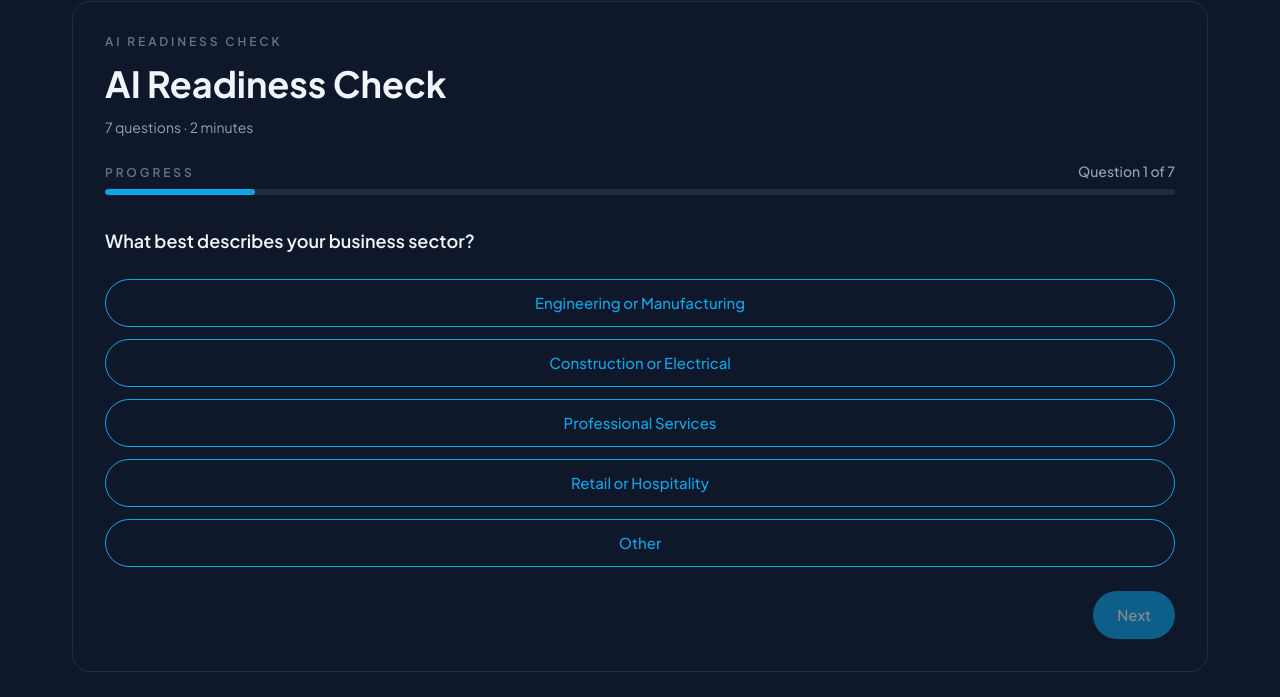
Scenario: ReadinessCheck flow UI contract › keeps the current question stable when an answer save conflict is returned
The image size is (1280, 697).
Expected: the text "What best describes your business sector?" is shown, [105,229,475,252]
Click the button "Construction or Electrical" at (640, 363), box [105,339,1175,387]
(page scrolled)
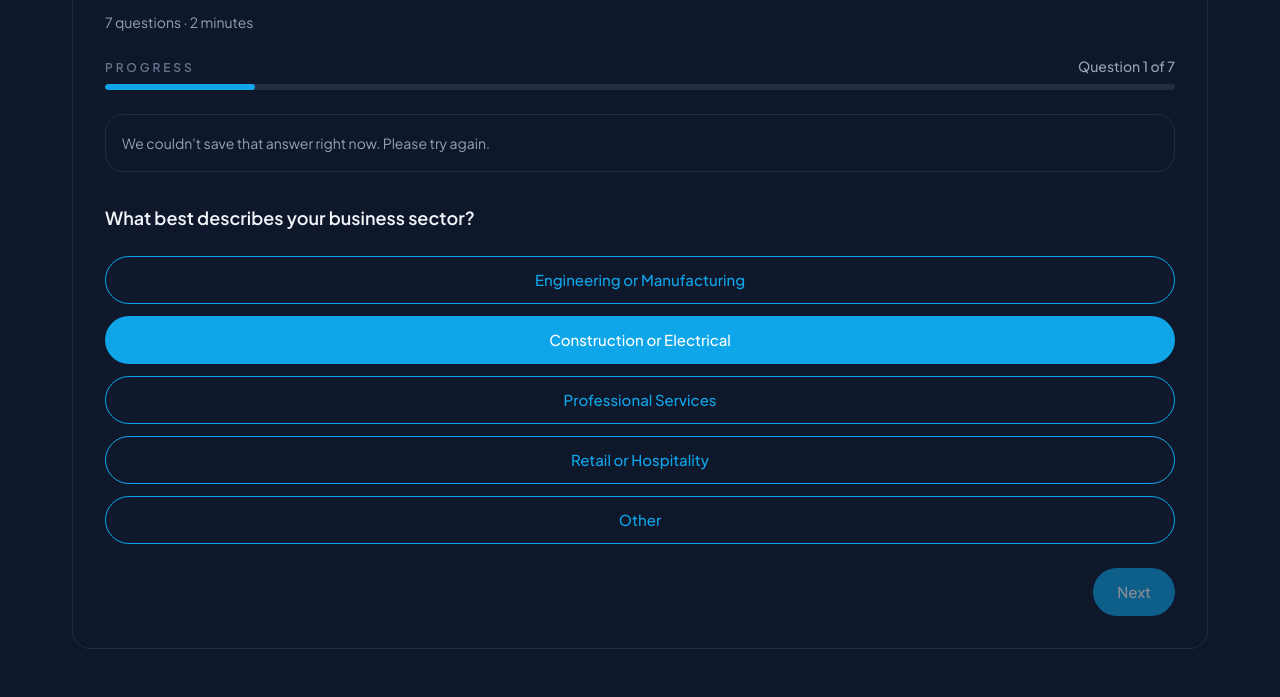
Expected: the text "What best describes your business sector?" is shown, [105,206,475,229]
Result: the message "We couldn't save that answer right now. Please try again." is shown at [105,114,1175,172]
Result: the message reads "We couldn't save that answer right now. Please try again." at [122,134,490,152]
